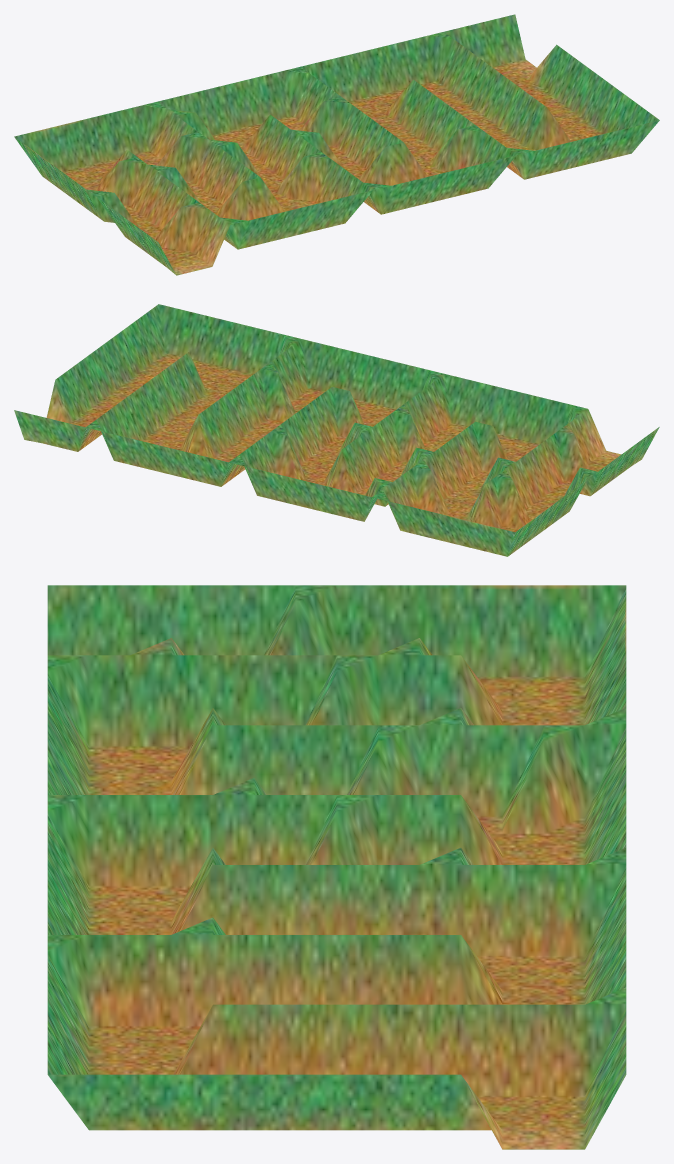
File: diy_box.dae
3 views of the same model, one above another, from view 1: azimuth 30°, elevation 25°; view 2: azimuth 150°, elevation 25°; view 3: azimuth 270°, elevation 25° (orthographic). The views are drawn at different scales.
Parts seen in each view (by area): view 1: Mesh; view 2: Mesh; view 3: Mesh.
Boxes of the visible parts, <box> form: Mesh: <box>14,14,659,275</box>; Mesh: <box>14,304,659,556</box>; Mesh: <box>47,585,626,1149</box>.
Size of the model in its own units: 112 by 56 by 8.
1 material, 1 textured.
